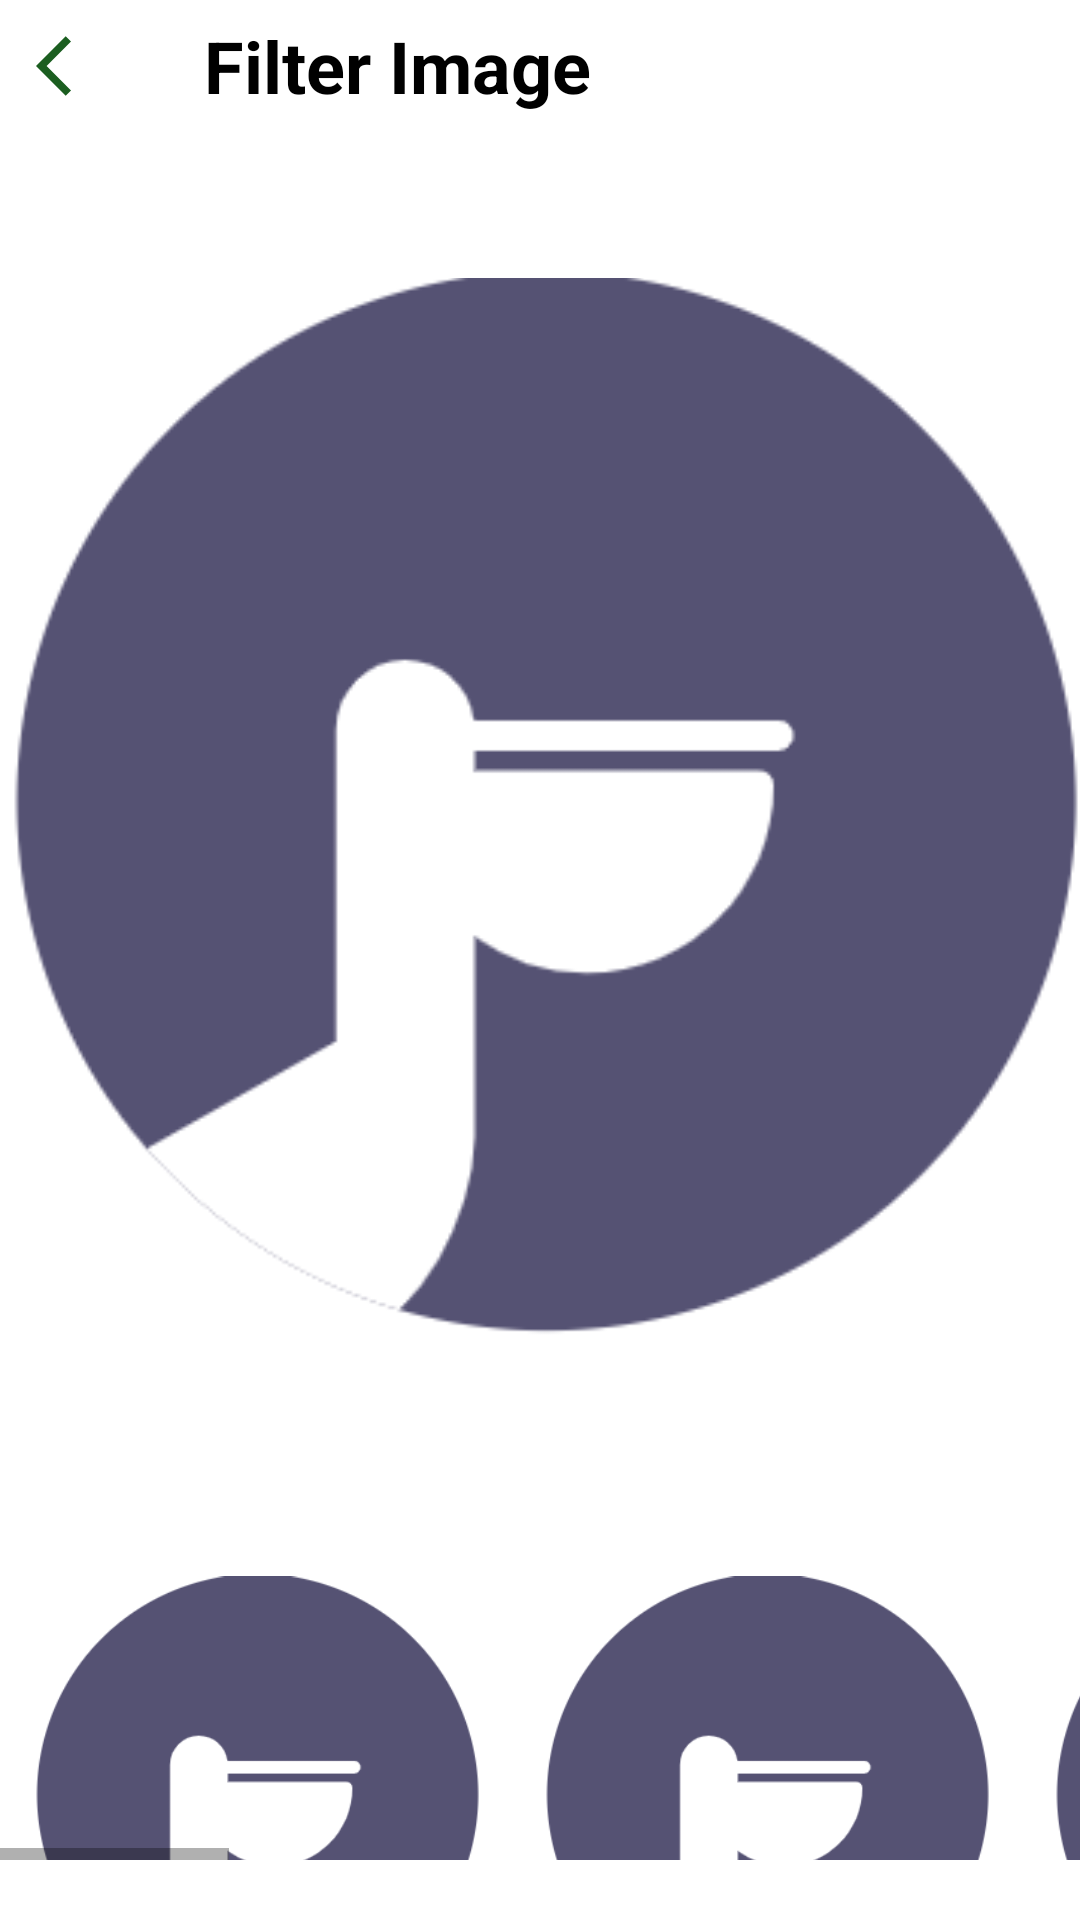

Icons on this 1080*1920 Android screen, each with the point to tap as (x,y):
arrow back: (53,66)
